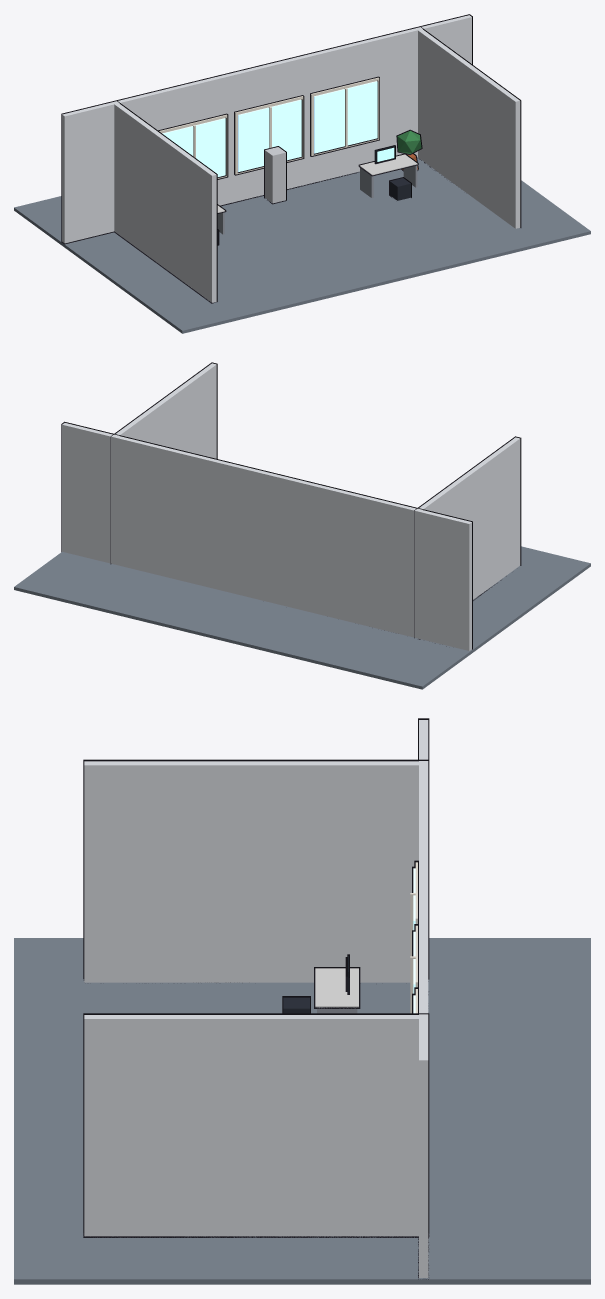
Rendered from cut-office.glb.
3 views of the same model, one above another, from view 1: azimuth 30°, elevation 25°; view 2: azimuth 150°, elevation 25°; view 3: azimuth 270°, elevation 25° (orthographic). The views are drawn at different scales.
Visible parts, largest first — view 1: Cube.065, Cube.066, Cube.067, Cube.068, Cube.088, Cube.085, Cube.082, Cube.090, Cube.084, Cube.087, Cube.075, Icosphere.002 (+2 smaller); view 2: Cube.066, Cube.065, Cube.067, Cube.068; view 3: Cube.065, Cube.068, Cube.067, Cube.066, Cube.069.
Boxes of the visible parts, left/top/right/bottom form: Cube.065: left=14, top=157, right=590, bottom=333; Cube.066: left=61, top=14, right=472, bottom=244; Cube.067: left=114, top=100, right=217, bottom=303; Cube.068: left=418, top=26, right=521, bottom=228; Cube.088: left=314, top=80, right=378, bottom=154; Cube.085: left=237, top=99, right=302, bottom=172; Cube.082: left=162, top=117, right=226, bottom=177; Cube.090: left=264, top=146, right=286, bottom=204; Cube.084: left=234, top=95, right=304, bottom=175; Cube.087: left=310, top=76, right=379, bottom=156; Cube.075: left=358, top=153, right=418, bottom=176; Icosphere.002: left=396, top=129, right=422, bottom=154; Cube.066: left=61, top=421, right=472, bottom=650; Cube.065: left=14, top=546, right=590, bottom=689; Cube.067: left=414, top=436, right=521, bottom=639; Cube.068: left=110, top=362, right=217, bottom=564; Cube.065: left=14, top=938, right=590, bottom=1284; Cube.068: left=83, top=1013, right=429, bottom=1237; Cube.067: left=83, top=759, right=429, bottom=982; Cube.066: left=418, top=718, right=429, bottom=1279; Cube.069: left=314, top=967, right=360, bottom=1008.
Bounding box in the file's own units: 14 × 4.3 × 10.
